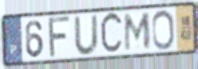6: (24, 20, 45, 59)
C: (99, 10, 124, 58)
F: (48, 14, 73, 60)
M: (124, 12, 152, 53)
O: (151, 9, 176, 52)
U: (73, 13, 100, 56)
